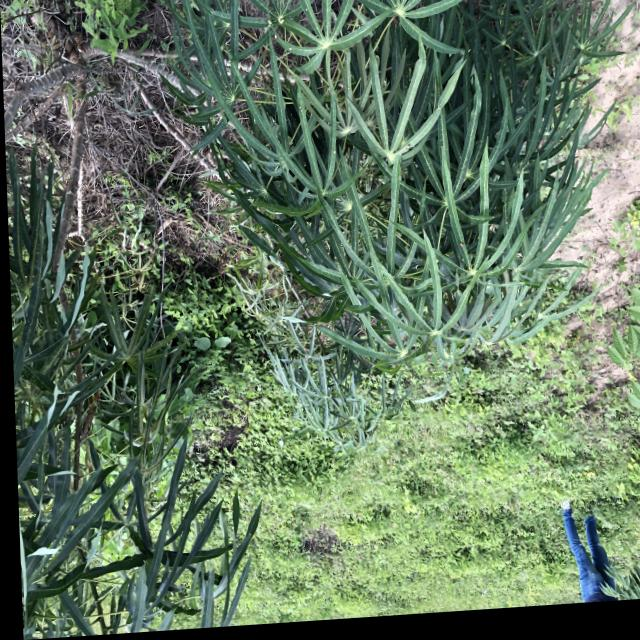Maleza: (276, 490, 559, 607), (281, 442, 635, 503), (410, 407, 631, 460), (514, 345, 640, 414), (223, 407, 302, 492)
Mosca: (291, 101, 308, 118), (329, 78, 348, 92), (429, 140, 446, 154), (240, 525, 254, 540), (495, 156, 508, 172), (452, 238, 464, 253), (514, 249, 528, 261)
